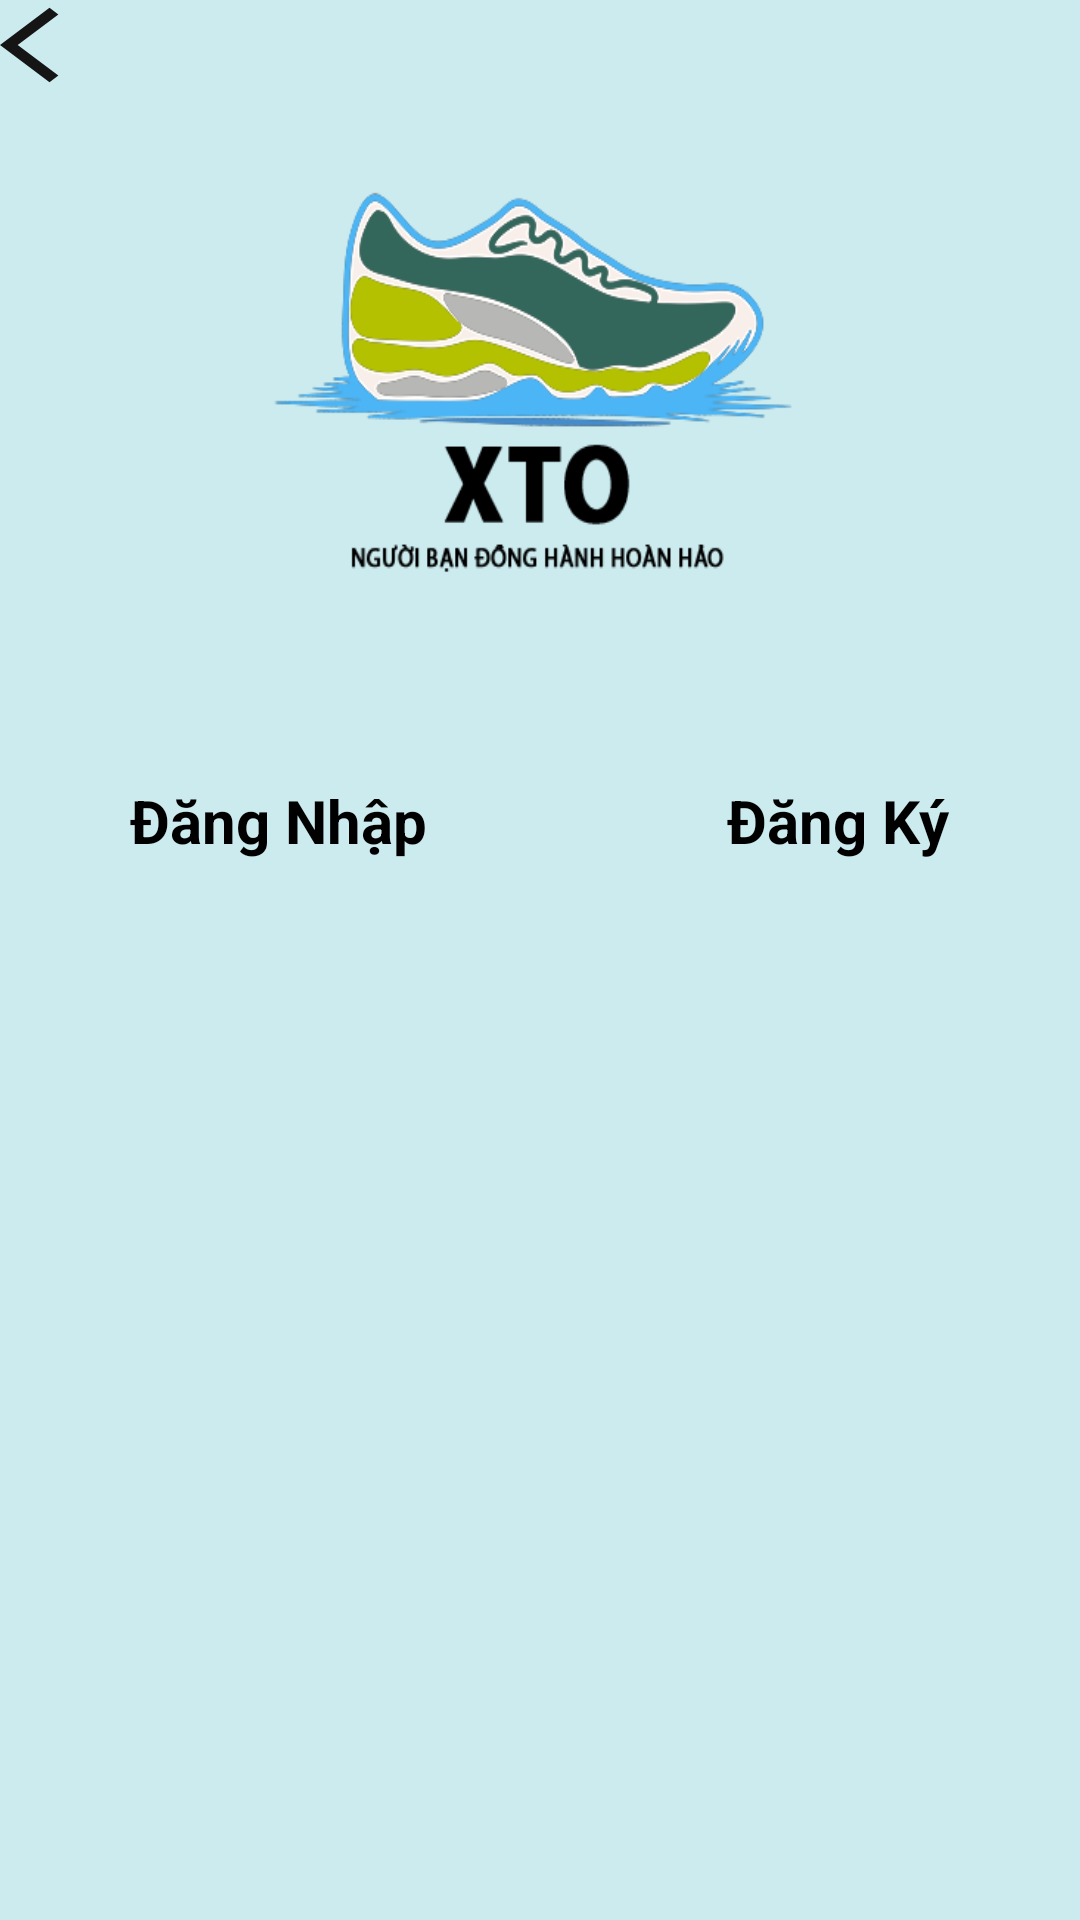

Icon click points for this 1080×1920 phone screenshot, format [x,y]:
quaylai: [29,45]
